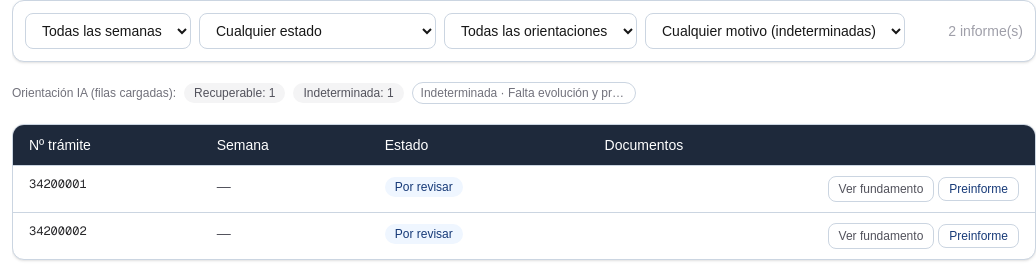
Test: Informes · orientación IA › el filtro por motivo de indeterminación deja sólo esas filas
Check: the text "34200002" is shown, box x1=13 y1=212 x2=201 y2=259
Select "Falta evolución/pronóstico/función" in the dropdown named "Motivo de indeterminación" at (775, 31), box x1=645 y1=13 x2=905 y2=49
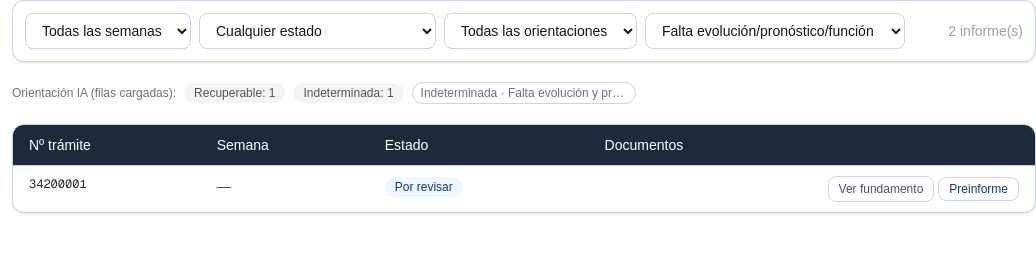
Check: the text "34200001" is shown, box x1=13 y1=166 x2=201 y2=212
Check: the text "34200002" is gone
